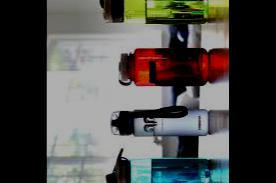Plastic: (115, 46, 210, 86), (108, 104, 210, 136), (100, 154, 212, 182), (98, 0, 207, 25)
